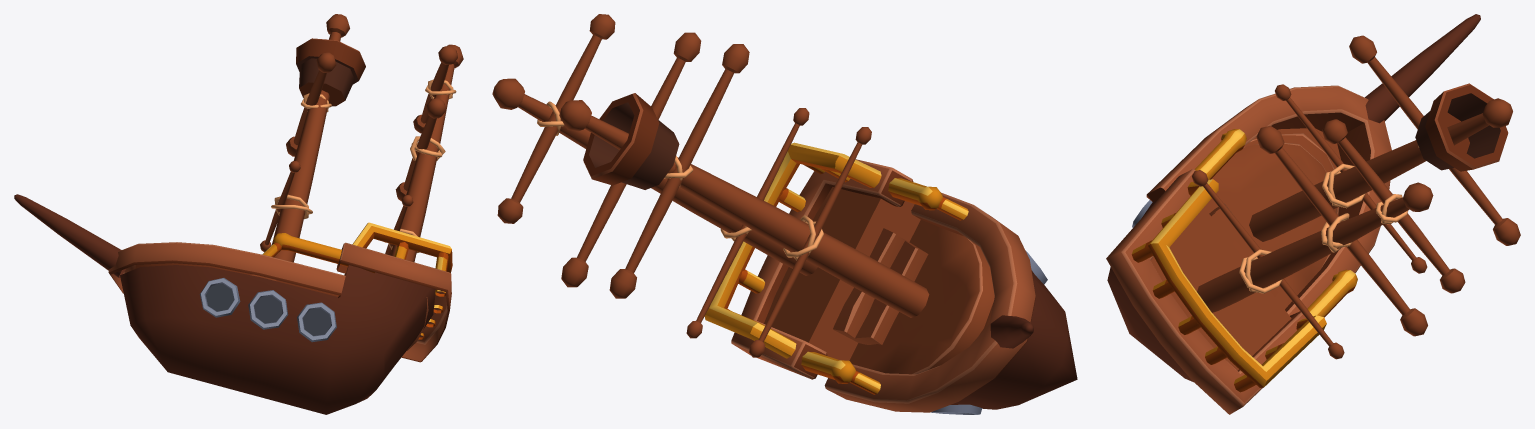
File: Ship_Medium (1).fbx
The picture shows the model from 3 angles, left to right: view 1: azimuth 30°, elevation 25°; view 2: azimuth 150°, elevation 25°; view 3: azimuth 270°, elevation 25°; orthographic projection. The views are drawn at different scales.
Parts seen in each view (by area): view 1: Color_01; view 2: Color_01; view 3: Color_01.
Boxes of the visible parts, box(x1,y1,x2,y2) form: Color_01: box(14, 14, 463, 414); Color_01: box(492, 14, 1077, 414); Color_01: box(1106, 14, 1520, 414).
Bounding box in the file's own units: 38.05 × 24.58 × 25.68.
